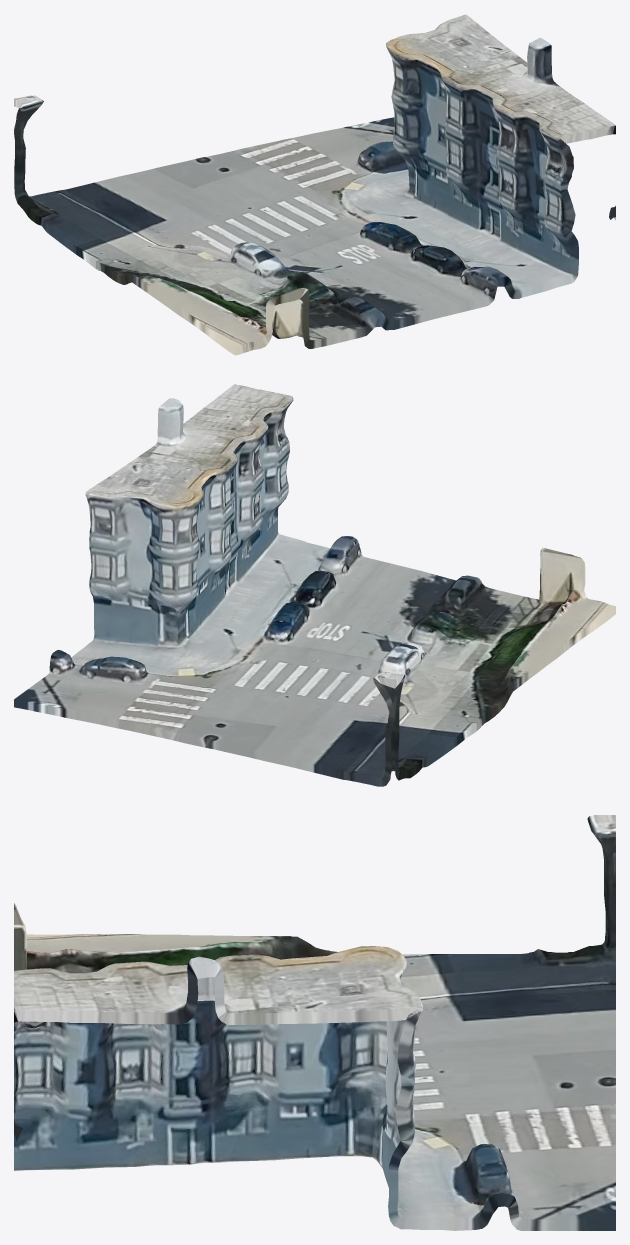
Rendered from z20-167734-405193-h0-yup-uvflip-v3-world.glb.
The picture shows the model from 3 angles, top to bottom: view 1: azimuth 30°, elevation 25°; view 2: azimuth 150°, elevation 25°; view 3: azimuth 270°, elevation 25°; orthographic projection. The views are drawn at different scales.
Size of the model in its own units: 30.16 by 14.76 by 30.32.
1 material, 1 textured.
